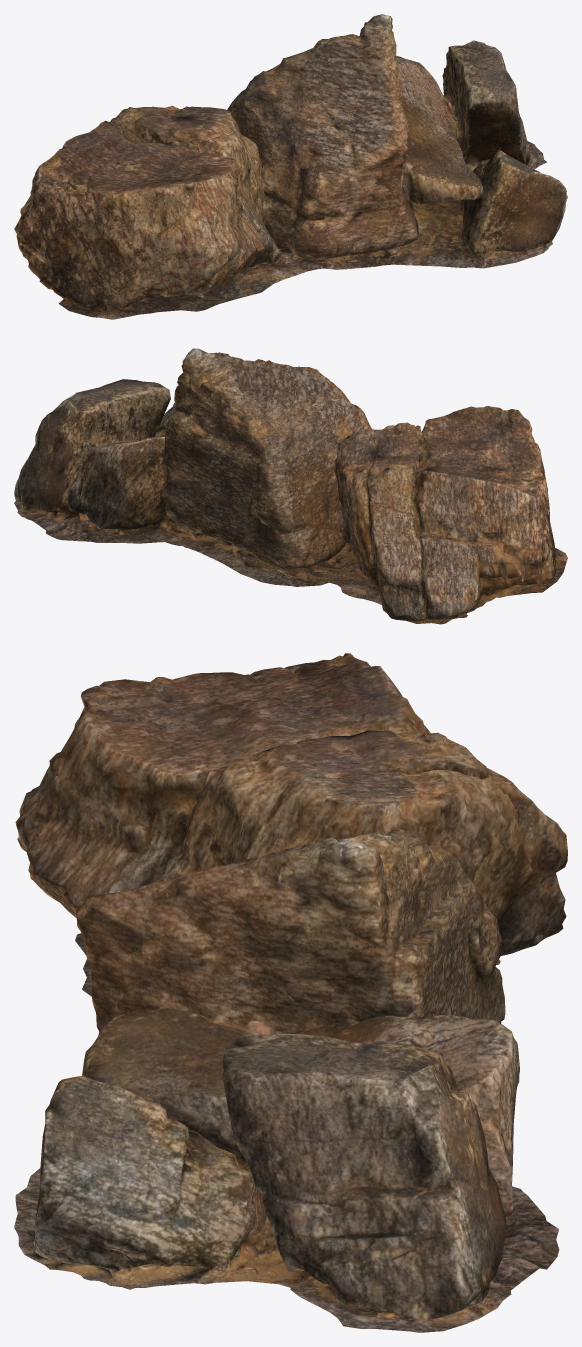
The model's file is namaqualand_boulder_02.glb.
The picture shows the model from 3 angles, top to bottom: view 1: azimuth 30°, elevation 25°; view 2: azimuth 150°, elevation 25°; view 3: azimuth 270°, elevation 25°; orthographic projection. The views are drawn at different scales.
Visible parts, largest first — view 1: boulder_02; view 2: boulder_02; view 3: boulder_02.
Part boxes in pixels (x1,y1,x2,y2): boulder_02: (14, 14, 567, 319); boulder_02: (14, 348, 567, 624); boulder_02: (14, 653, 567, 1332).
Bounding box in the file's own units: 2.53 × 0.8804 × 1.23.
1 material, 1 textured.
